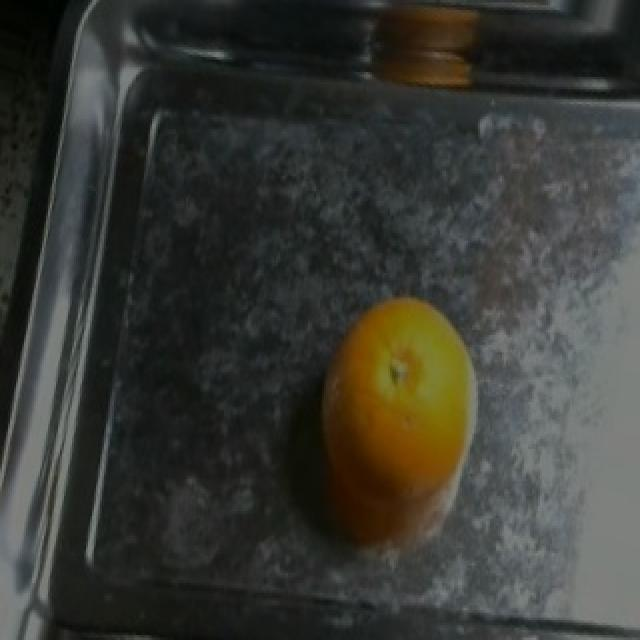Fruit: (280, 276, 502, 596)
